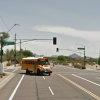Bus: (16, 51, 52, 81)
